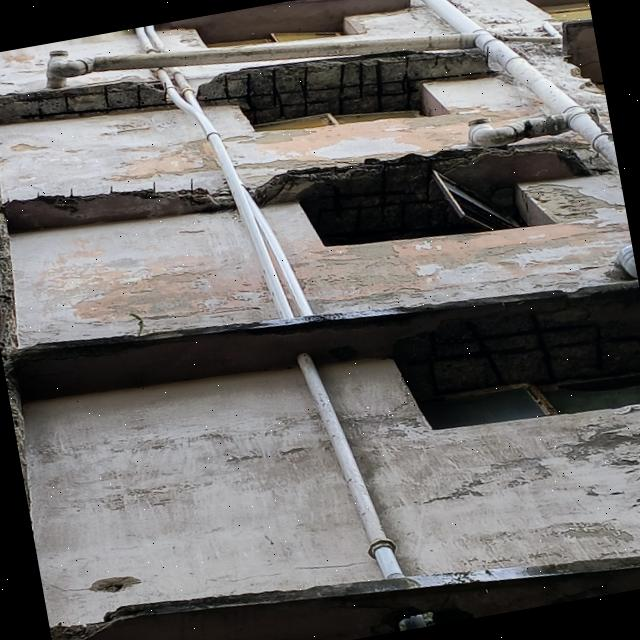peeling: (293, 180, 625, 307), (224, 90, 545, 169), (413, 415, 640, 513), (70, 254, 259, 328), (99, 111, 209, 184), (12, 136, 51, 162)
spalling: (0, 191, 640, 510), (49, 556, 640, 640), (247, 144, 597, 245), (392, 305, 640, 402), (197, 45, 489, 127), (3, 187, 235, 233), (3, 187, 234, 233), (0, 76, 171, 124), (7, 227, 11, 236)
stain_mould: (56, 391, 640, 553)
